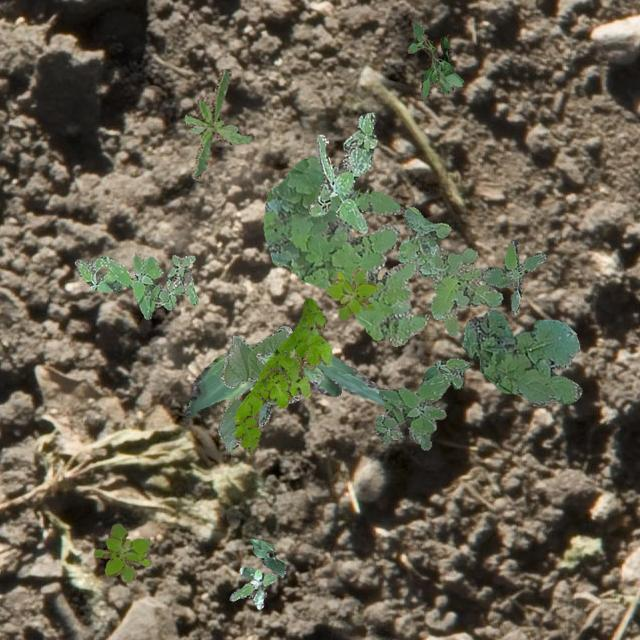crop: (184, 324, 384, 416), (216, 328, 298, 450), (255, 351, 322, 384), (248, 536, 286, 576)
weed: (263, 156, 427, 346), (234, 297, 330, 453), (396, 206, 502, 336), (461, 308, 582, 406), (372, 358, 468, 448), (308, 111, 377, 232), (74, 252, 198, 318), (184, 68, 254, 178), (480, 238, 546, 314), (407, 20, 462, 99), (92, 522, 150, 582), (324, 266, 376, 320), (230, 564, 274, 608)
